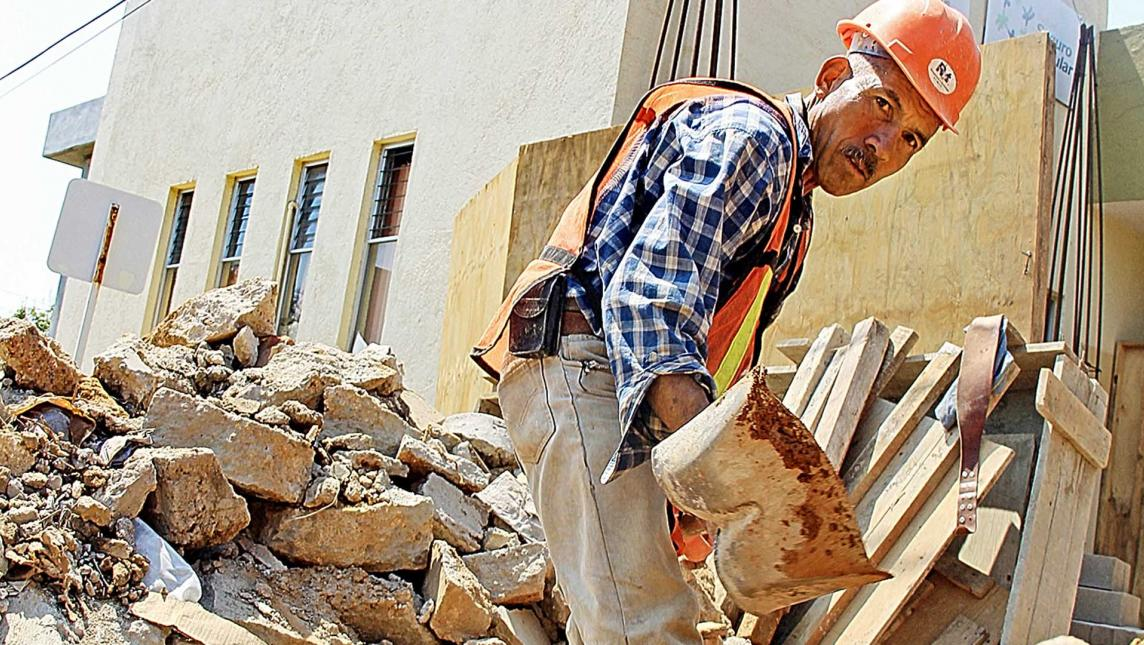casco: (833, 1, 984, 137)
